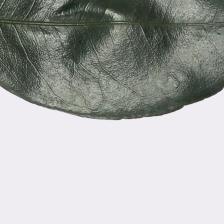healthy: (5, 0, 168, 105)
